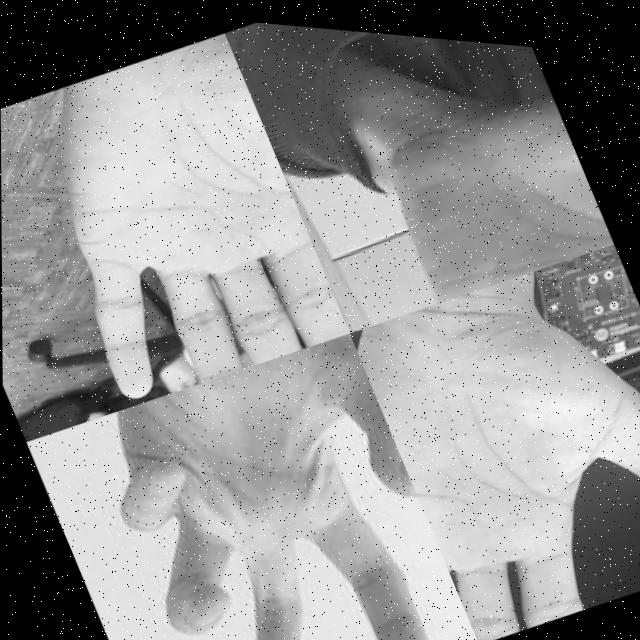hand: (0, 13, 349, 422), (81, 308, 478, 640), (348, 215, 640, 640), (316, 22, 614, 322)
